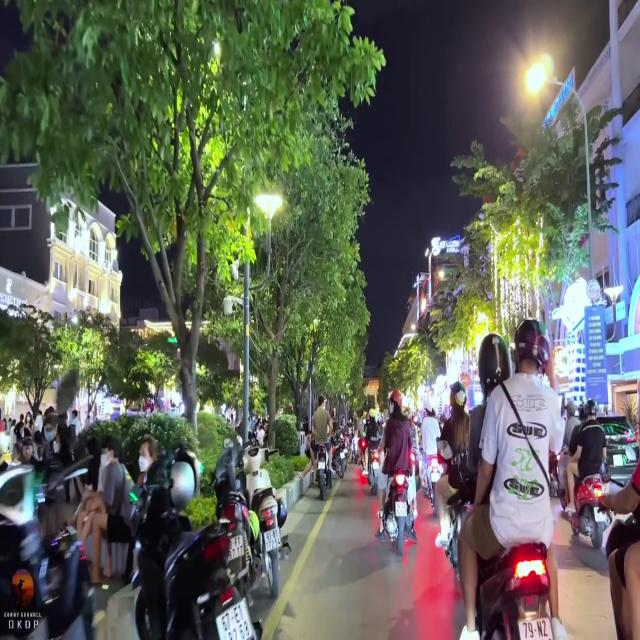bien_trang: (262, 528, 283, 550)
